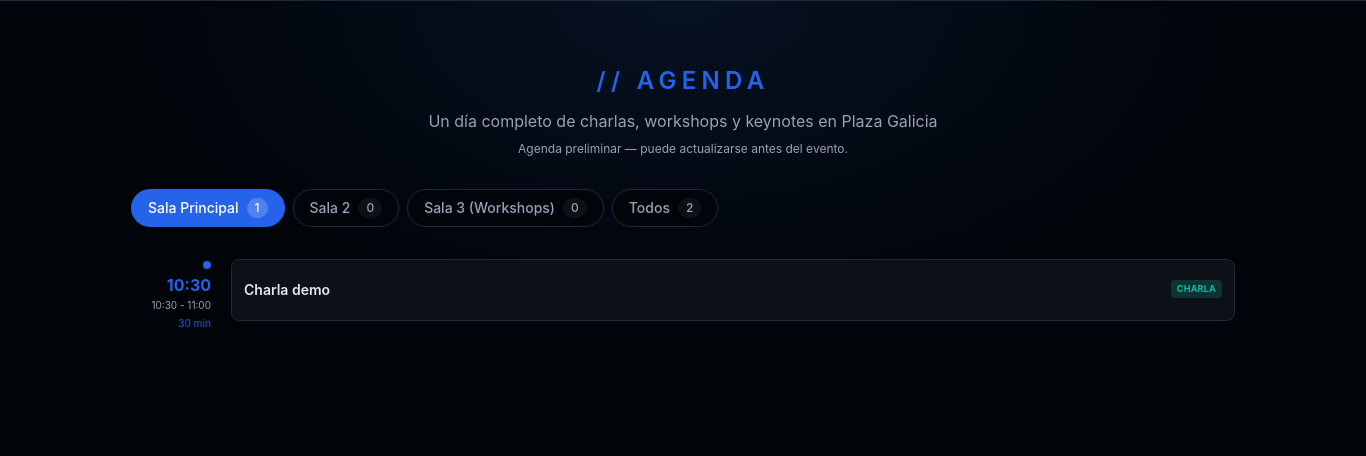
Test case: AgendaSection › does not open dialog when a break card is present
Click the tab "Todos 2". click: (665, 208)
box: [612, 189, 718, 227]
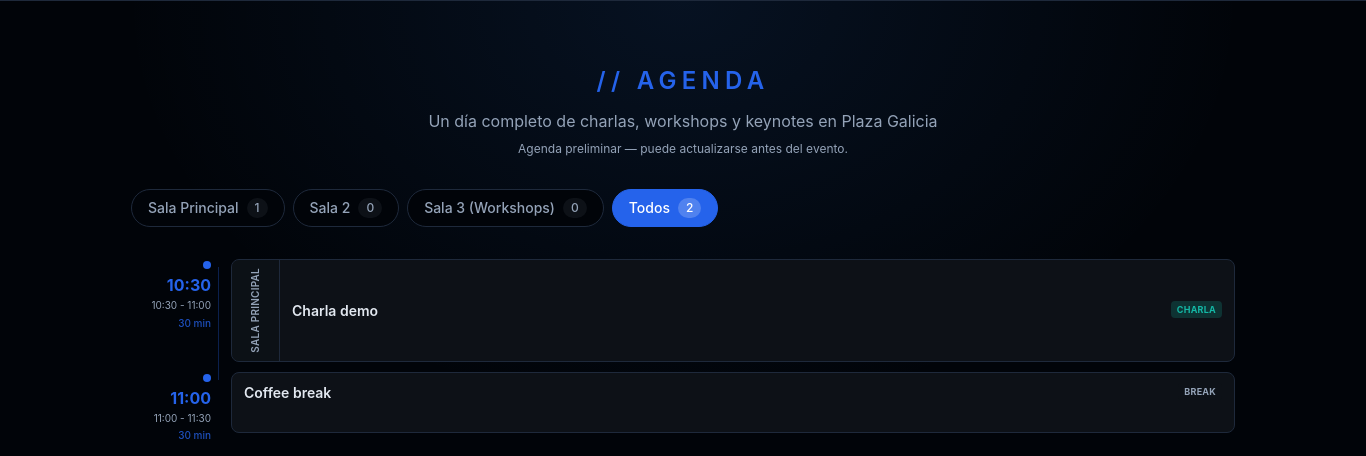
Expected: the heading "Coffee break" is shown, [244, 384, 331, 401]
